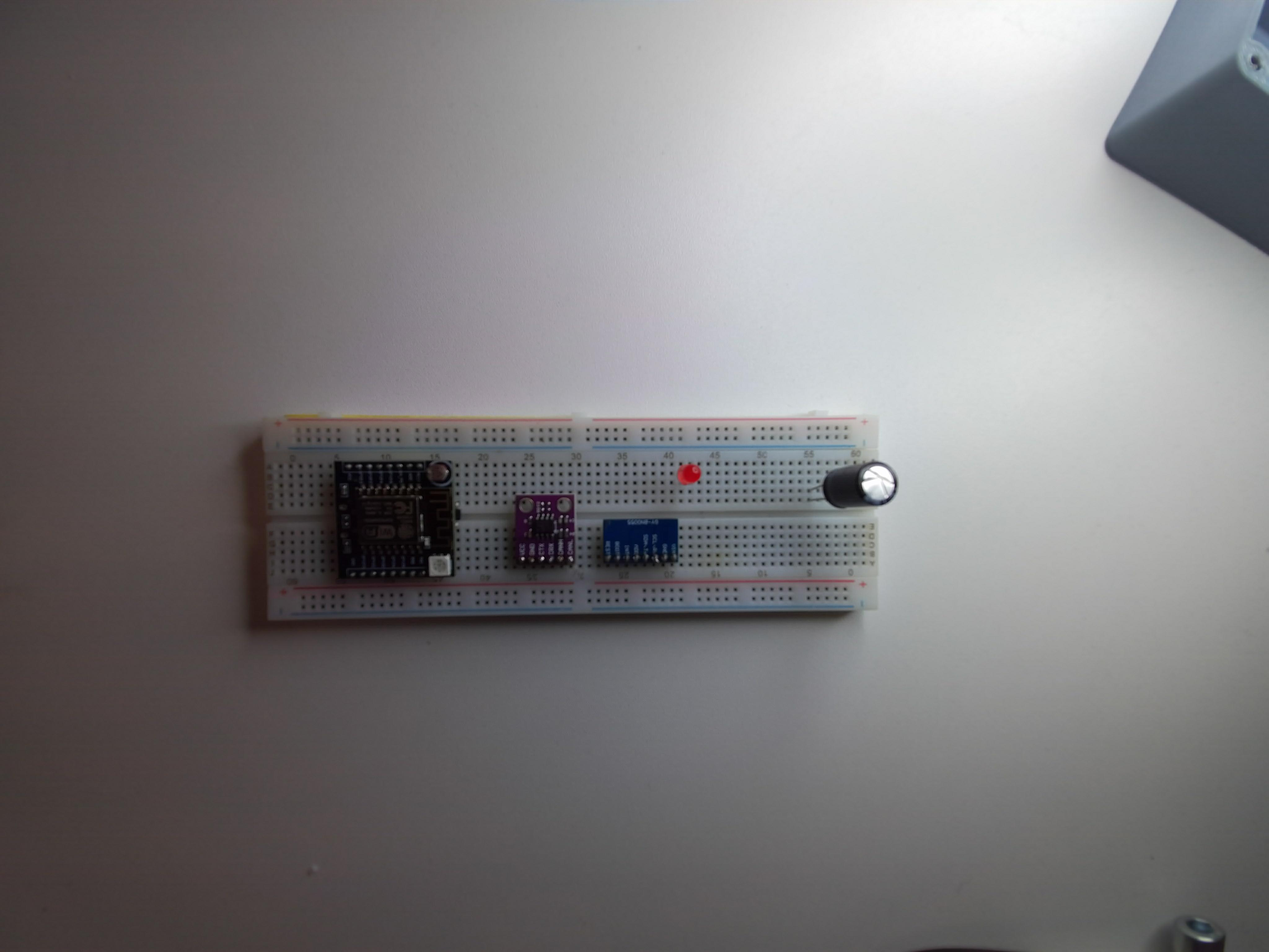base: (239, 412, 893, 630)
blue-board: (601, 517, 679, 567)
capacitor: (820, 459, 898, 523)
esp: (328, 454, 459, 582)
purple-board: (511, 491, 575, 568)
red-led: (678, 463, 700, 485)
